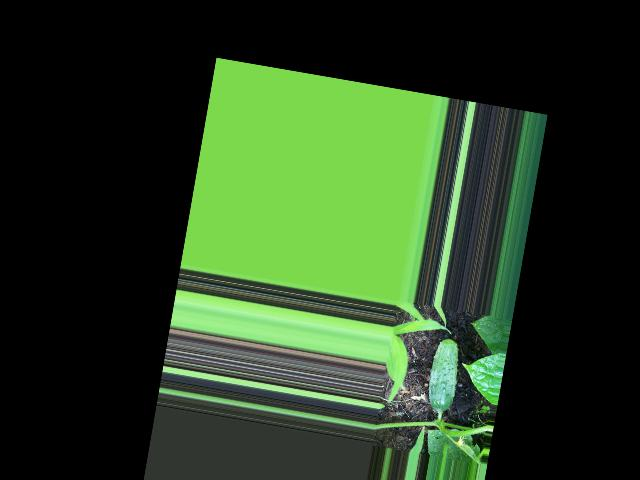cucumber: (423, 335, 463, 413)
